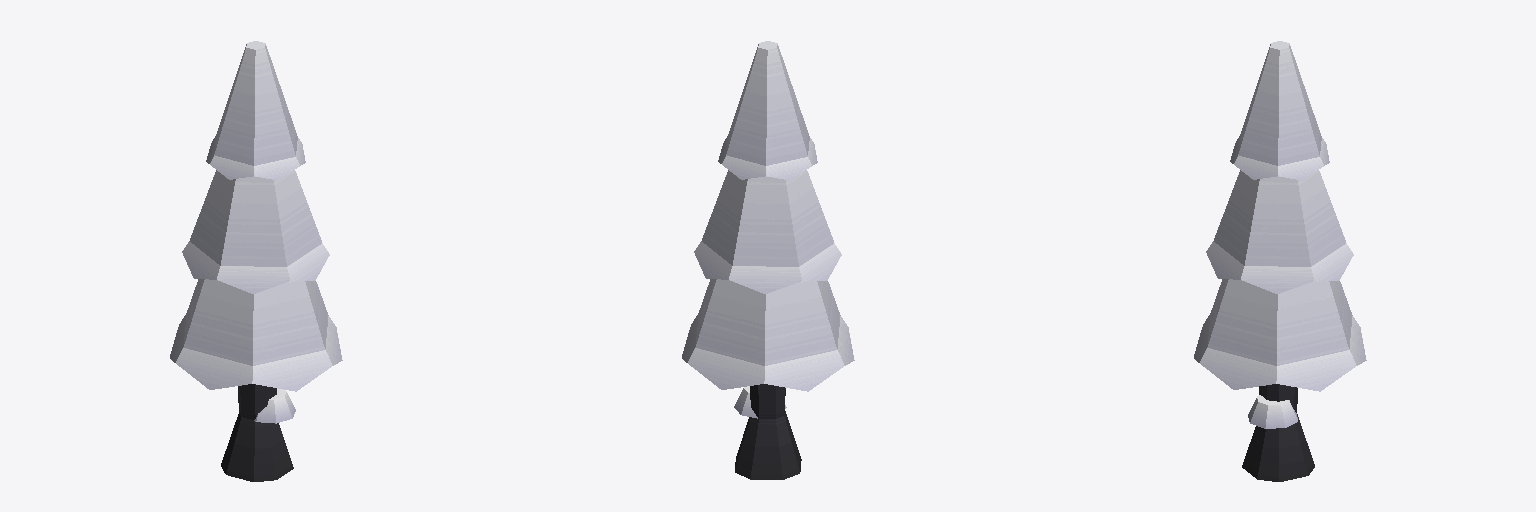
The picture shows the model from 3 angles: view 1: azimuth 30°, elevation 25°; view 2: azimuth 150°, elevation 25°; view 3: azimuth 270°, elevation 25°; orthographic projection.
Visible parts, largest first — view 1: tree.039; view 2: tree.039; view 3: tree.039.
Boxes of the visible parts, x1,y1,x2,y2 form: tree.039: [170, 41, 342, 481]; tree.039: [682, 41, 854, 479]; tree.039: [1194, 41, 1366, 481].
Size of the model in its own units: 1.36 by 3.47 by 1.29.
1 materials, 1 textured.